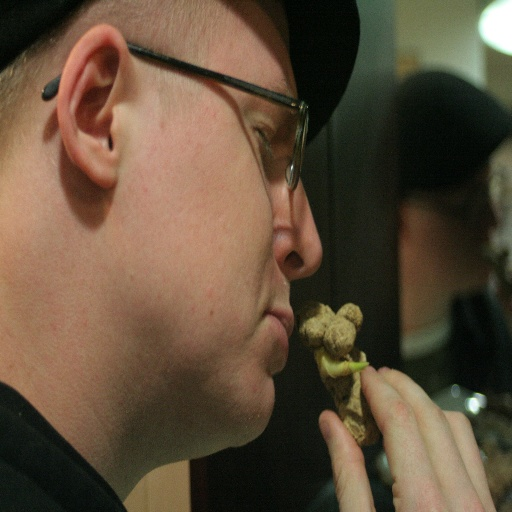hand: (337, 356, 490, 509)
